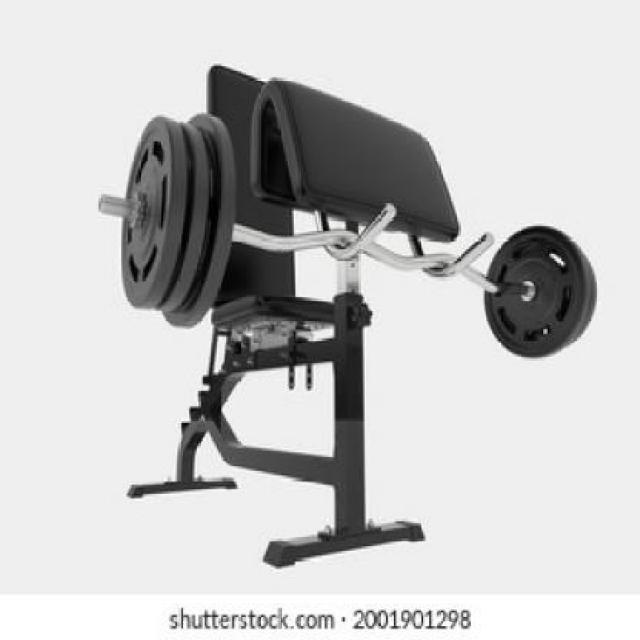arm curl machine: (100, 63, 598, 571)
